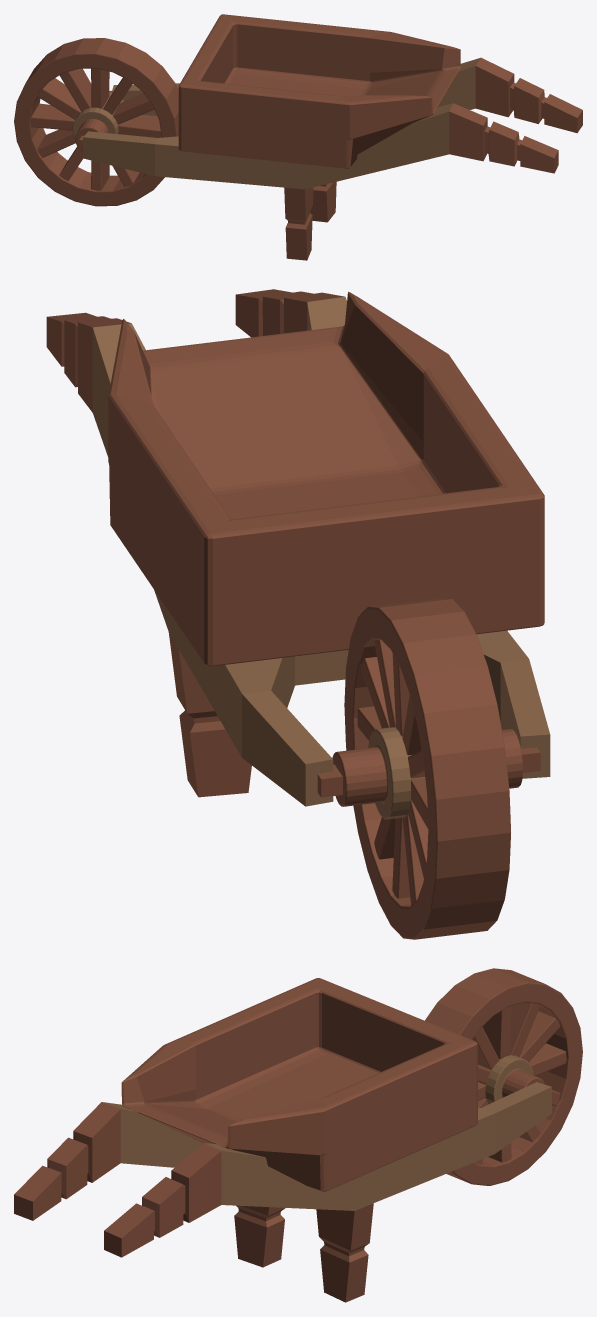
Rendered from env-wheelbarrow.fbx.
3 renders of one model, top to bottom at view 1: azimuth 30°, elevation 25°; view 2: azimuth 150°, elevation 25°; view 3: azimuth 270°, elevation 25°, orthographic. The views are drawn at different scales.
Parts seen in each view (by area): view 1: Cube.610, Cube.275; view 2: Cube.610, Cube.275; view 3: Cube.610, Cube.275.
Part boxes in pixels (x1,y1,x2,y2): Cube.610: (79,14,582,260); Cube.275: (14,38,178,206); Cube.610: (46,289,550,806); Cube.275: (332,597,522,939); Cube.610: (14,978,551,1302); Cube.275: (425,968,582,1185).
Bounding box in the file's own units: 263 × 112 × 255.
